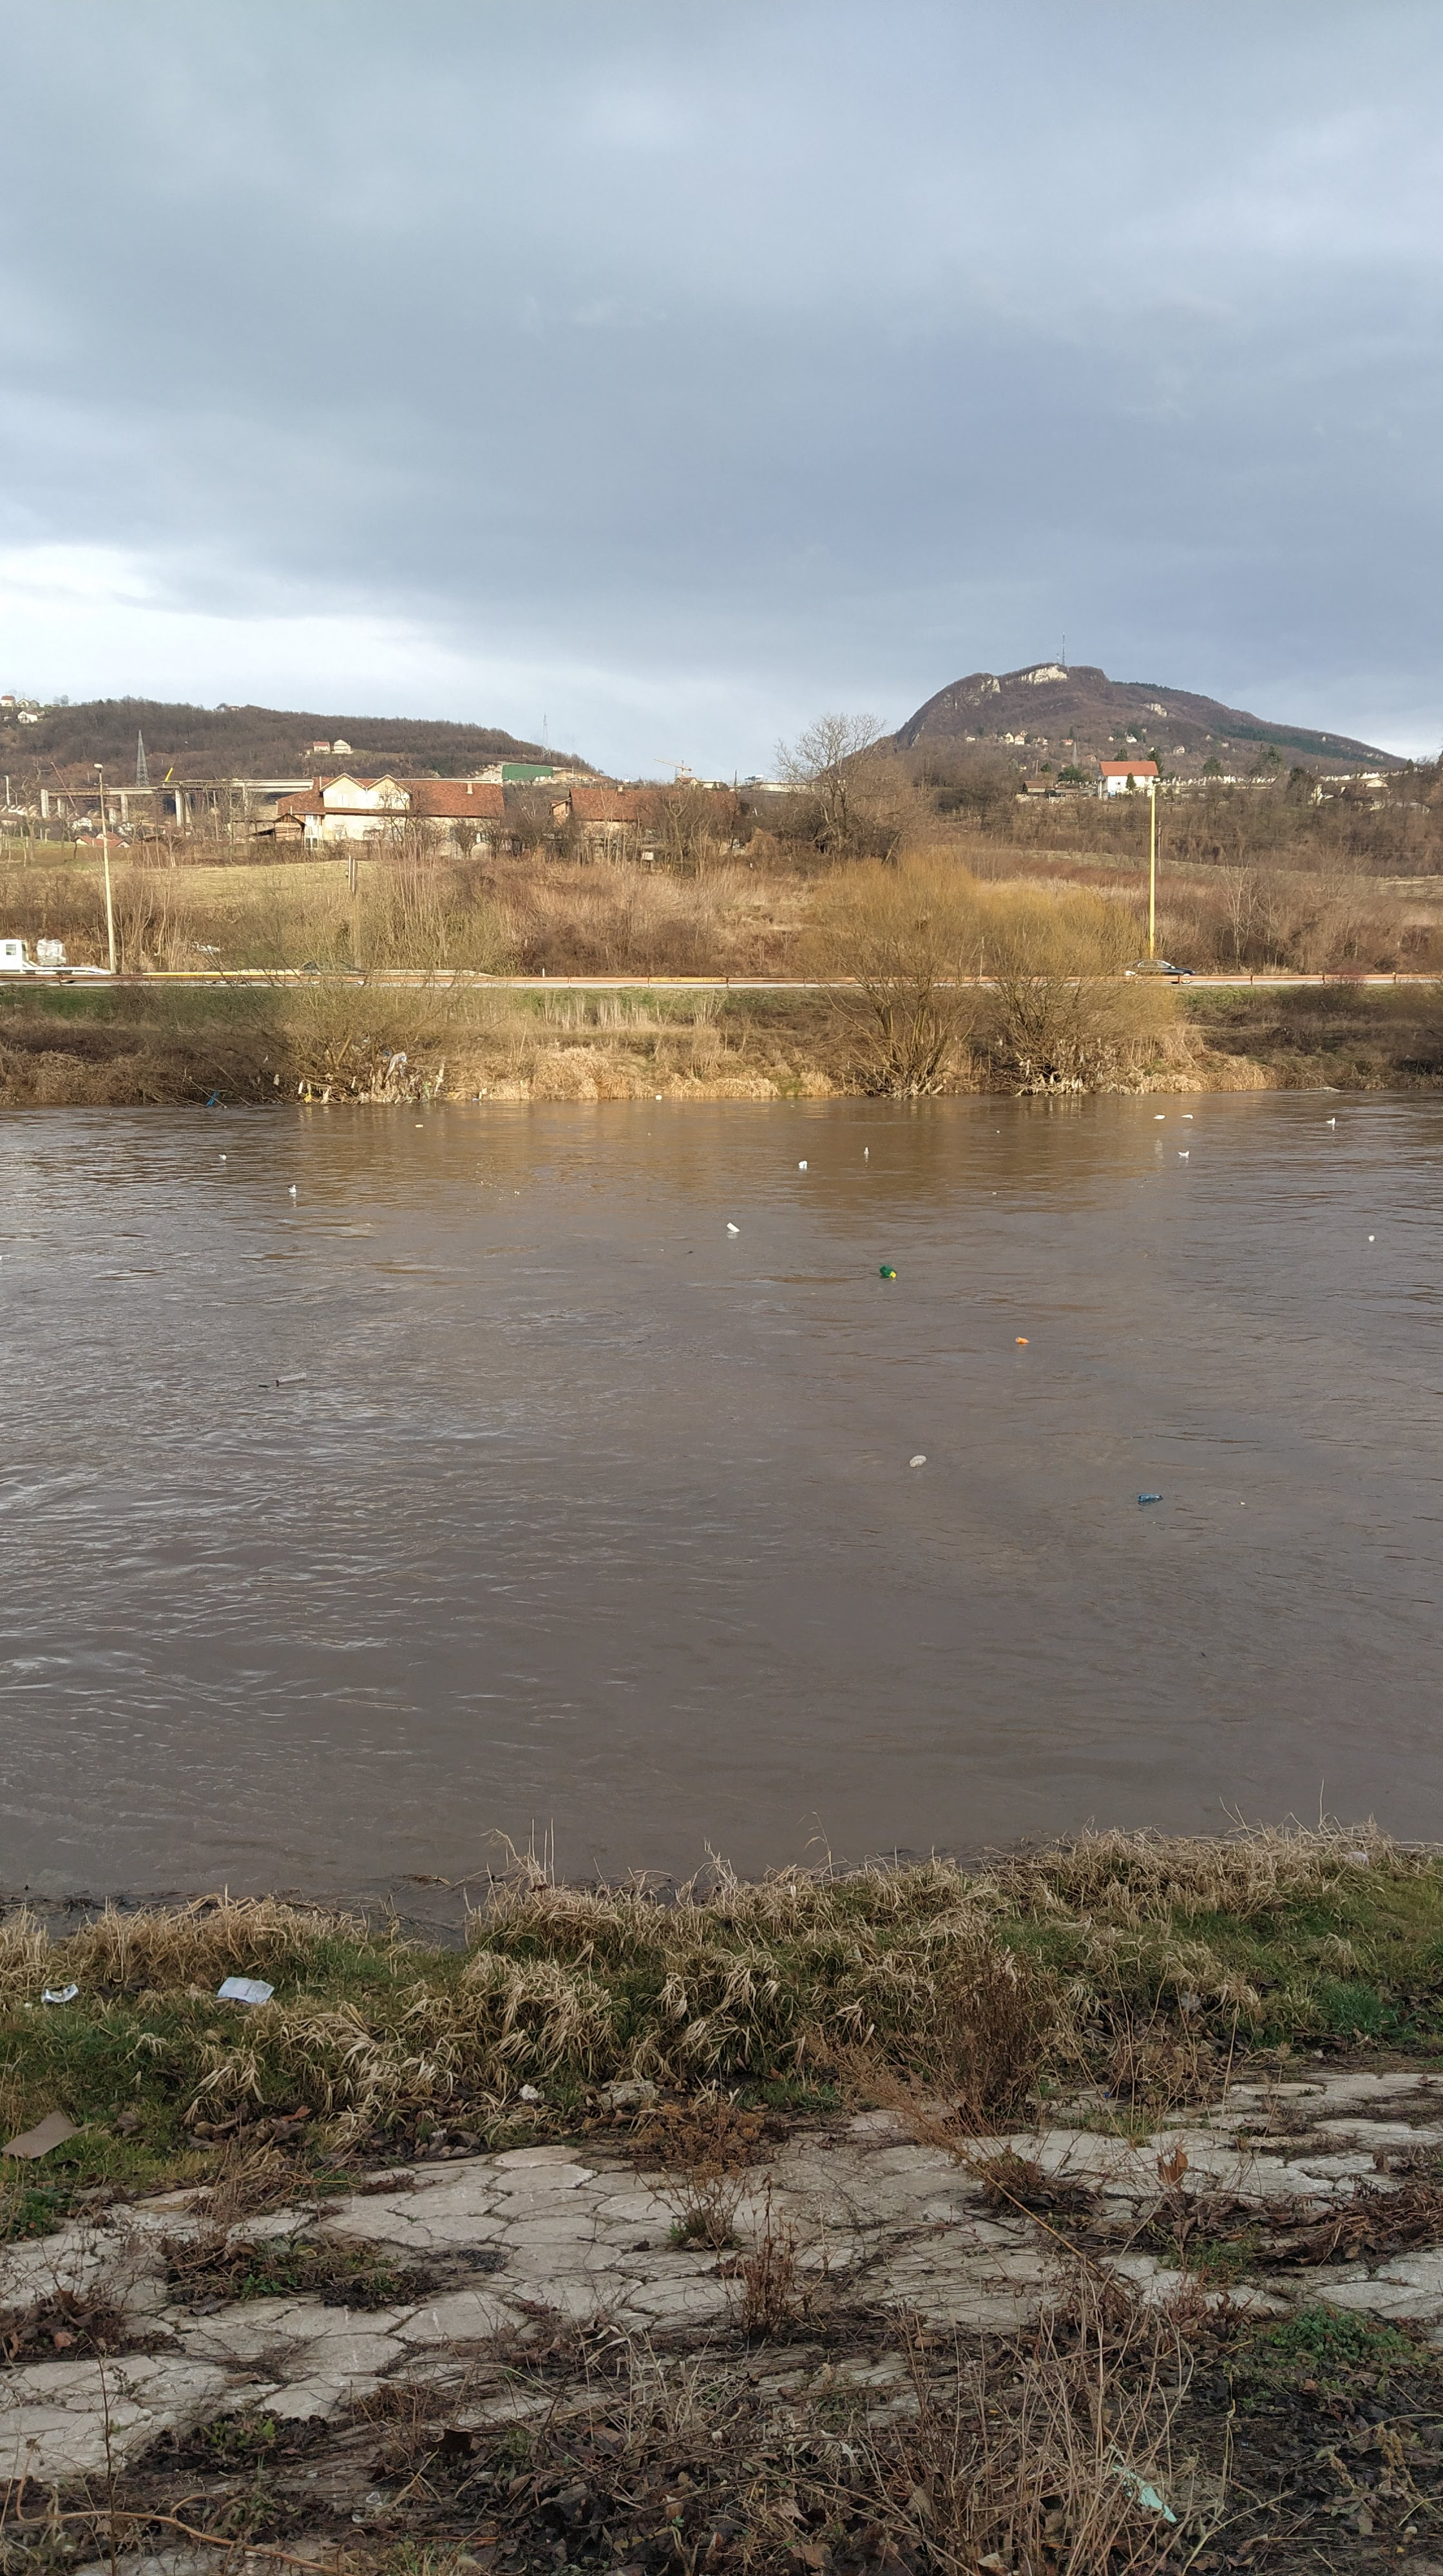Plastic Bottle: (276, 1371, 306, 1384), (910, 1454, 926, 1468), (880, 1265, 896, 1277), (1138, 1493, 1161, 1500), (726, 1223, 738, 1233), (1015, 1336, 1029, 1345), (799, 1161, 807, 1168), (414, 1123, 423, 1127), (1369, 1235, 1374, 1240)
